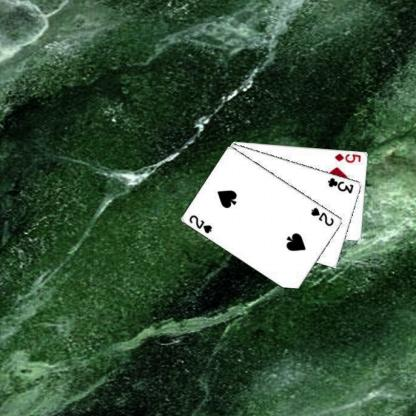2S: (187, 212, 213, 235), (309, 205, 335, 227)
3C: (326, 175, 354, 195)
5D: (332, 150, 362, 164)
